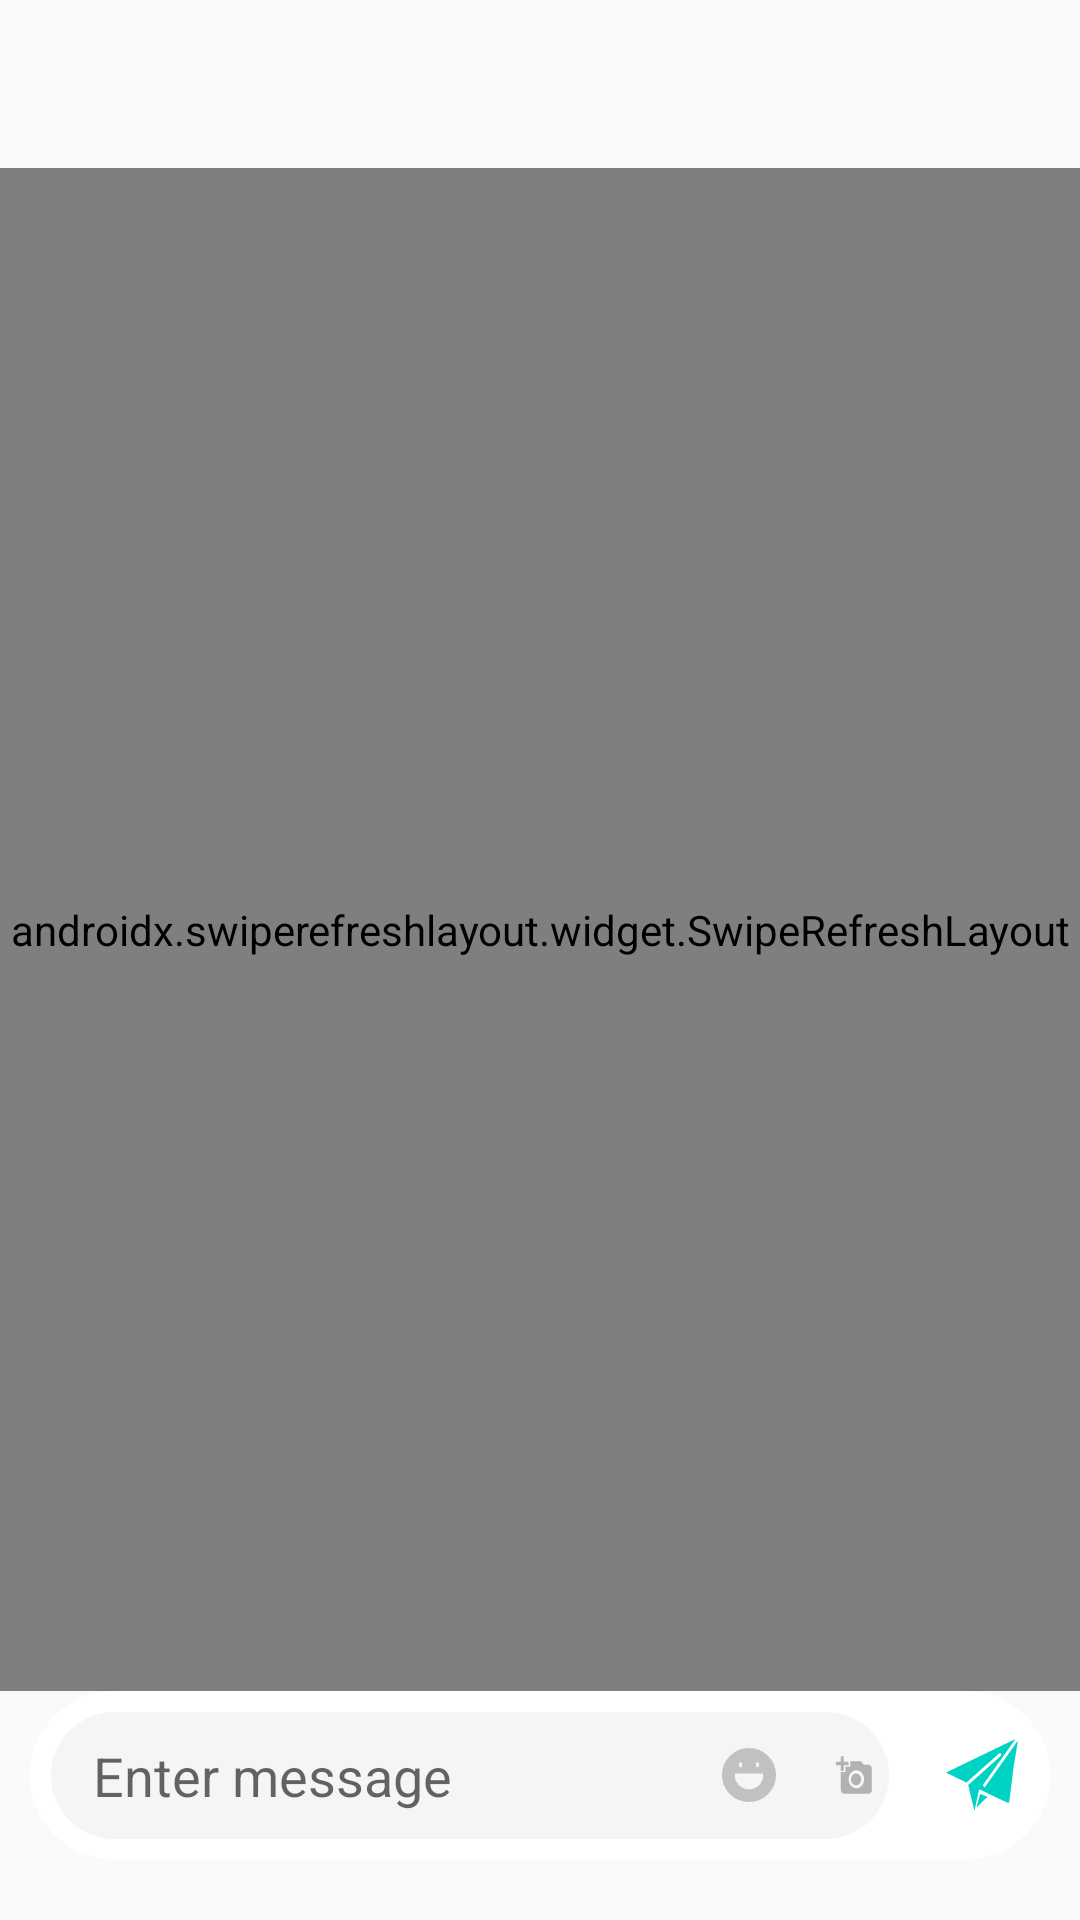

Icon click points for this 1080px x 1920px phone screenshot, format (x=x, y=y):
camera: (x=854, y=1775)
happy: (x=749, y=1775)
